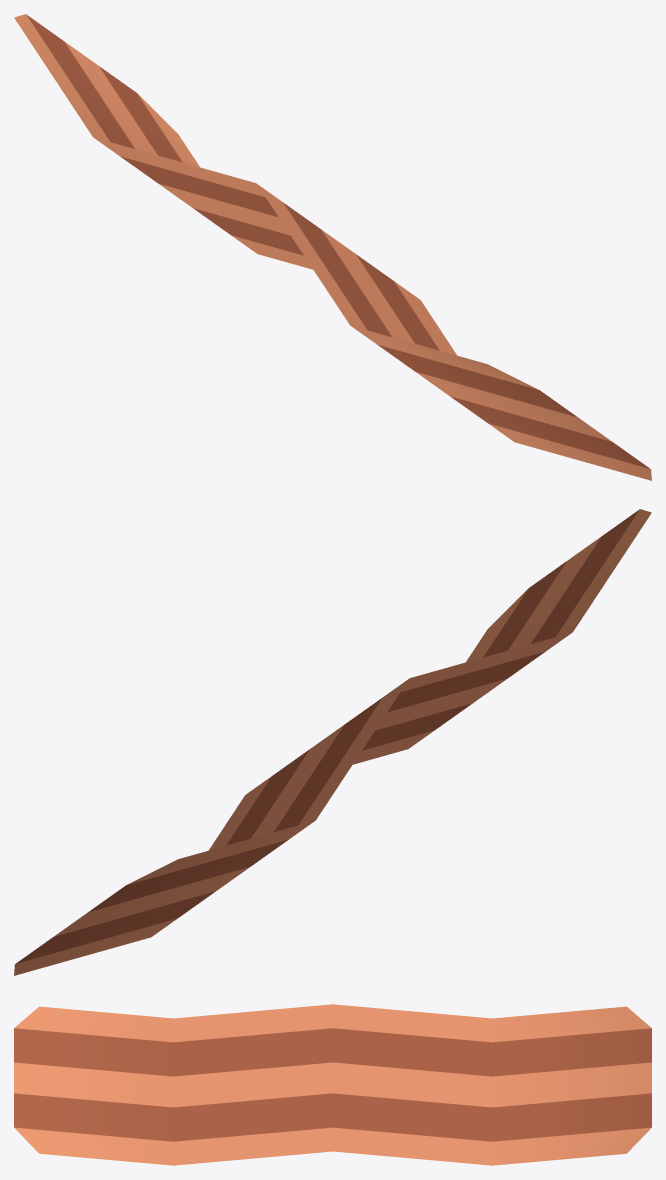
File: bacon.glb
3 views of the same model, one above another, from view 1: azimuth 30°, elevation 25°; view 2: azimuth 150°, elevation 25°; view 3: azimuth 270°, elevation 25° (orthographic). The views are drawn at different scales.
Parts seen in each view (by area): view 1: bacon; view 2: bacon; view 3: bacon.
Boxes of the visible parts, left/top/right/bottom form: bacon: left=14, top=14, right=651, bottom=480; bacon: left=14, top=509, right=651, bottom=975; bacon: left=14, top=1004, right=651, bottom=1165.
Size of the model in its own units: 0.83 by 0.7835 by 3.71.
Materials: 1 (1 with a texture image).
